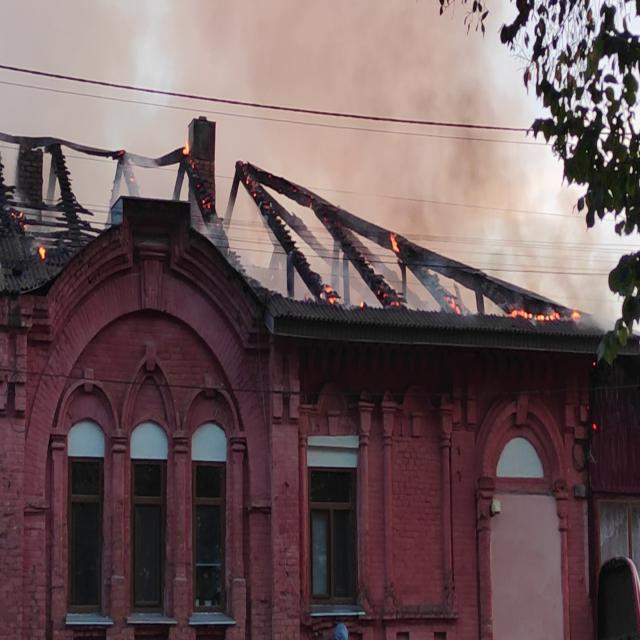fire: (522, 283, 604, 333), (28, 196, 70, 261), (178, 137, 208, 211), (387, 225, 422, 272)
smoke: (401, 76, 514, 225)
